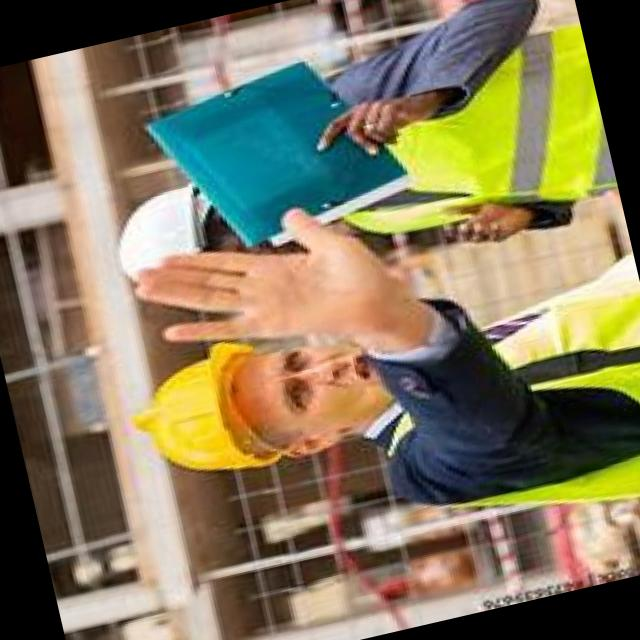not-gloved: (122, 184, 432, 381), (304, 72, 448, 168), (424, 162, 546, 268)
